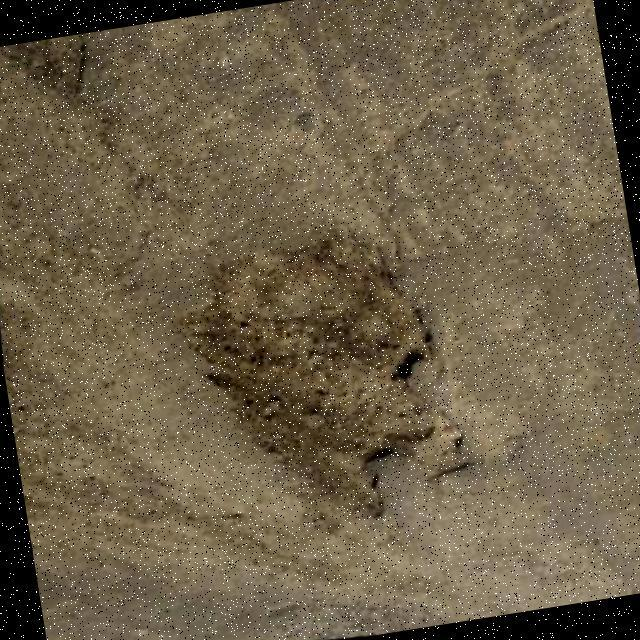Pothole: (180, 232, 478, 515)
